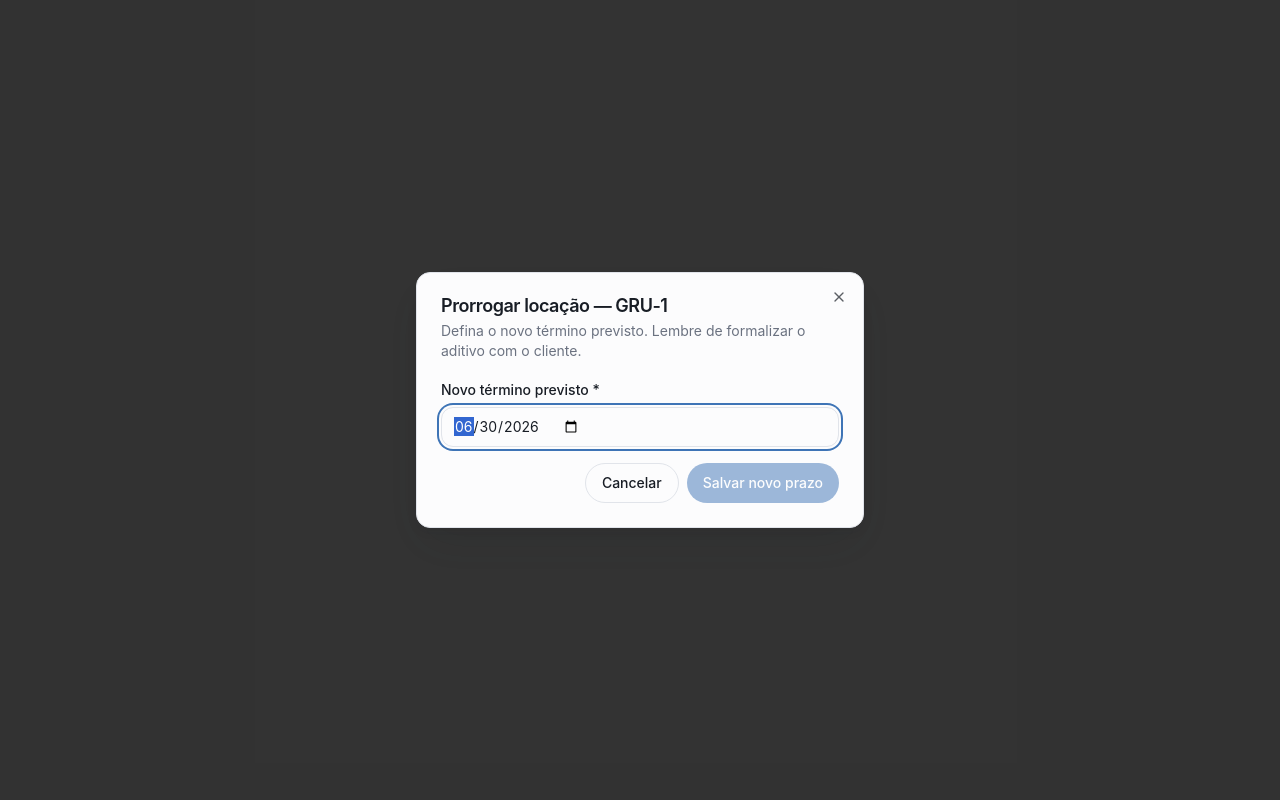
Test case: prorrogar locação › mostra quantos dias entram e quanto sobe o valor previsto
The width and height of the screenshot is (1280, 800).
Step 1. Type "2026-07-31" into the date field labelled "Novo término previsto *" → {"x": 640, "y": 427}, box [441,407,839,447]
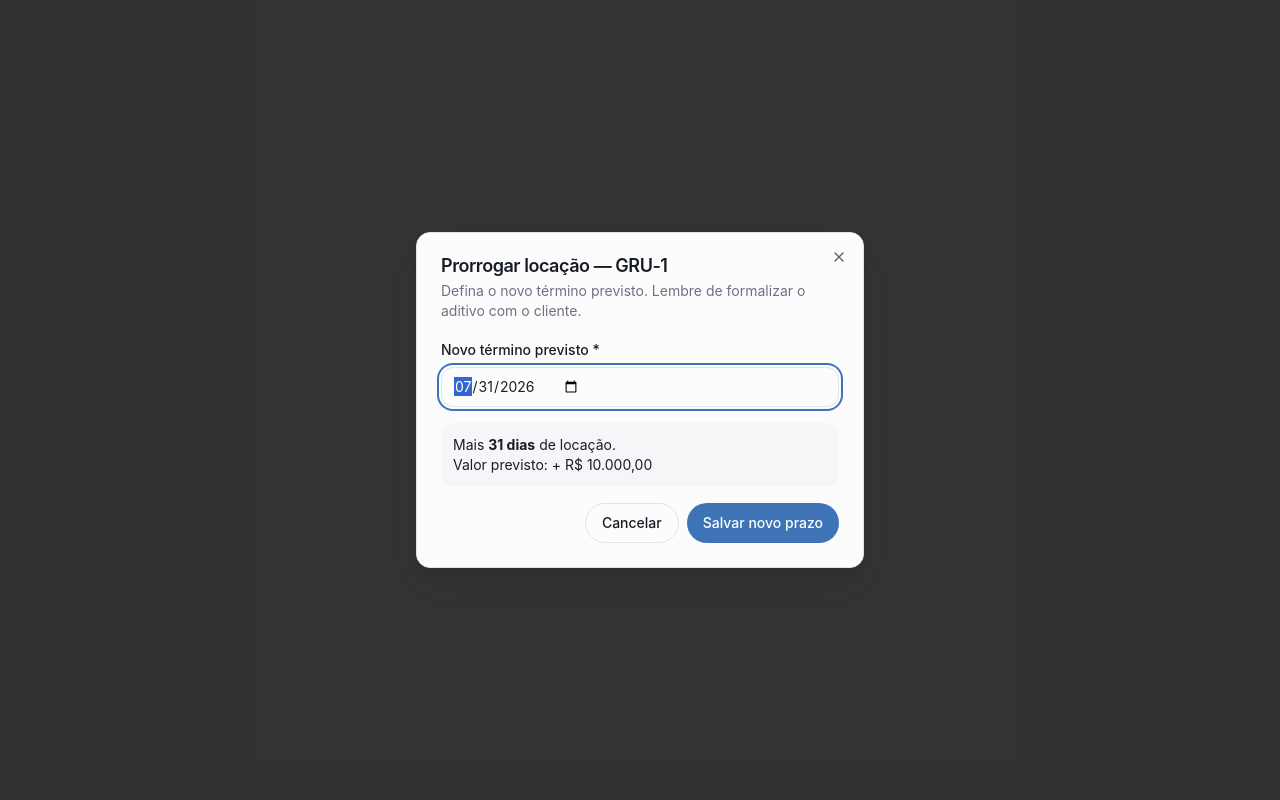
Expected: the text "Mais 31 dias de locação. Valor previsto: + R$ 10.000,00" is shown, [441,423,839,487]
Expected: the text "Valor previsto: + R$ 10.000,00" is shown, [453,456,652,473]
